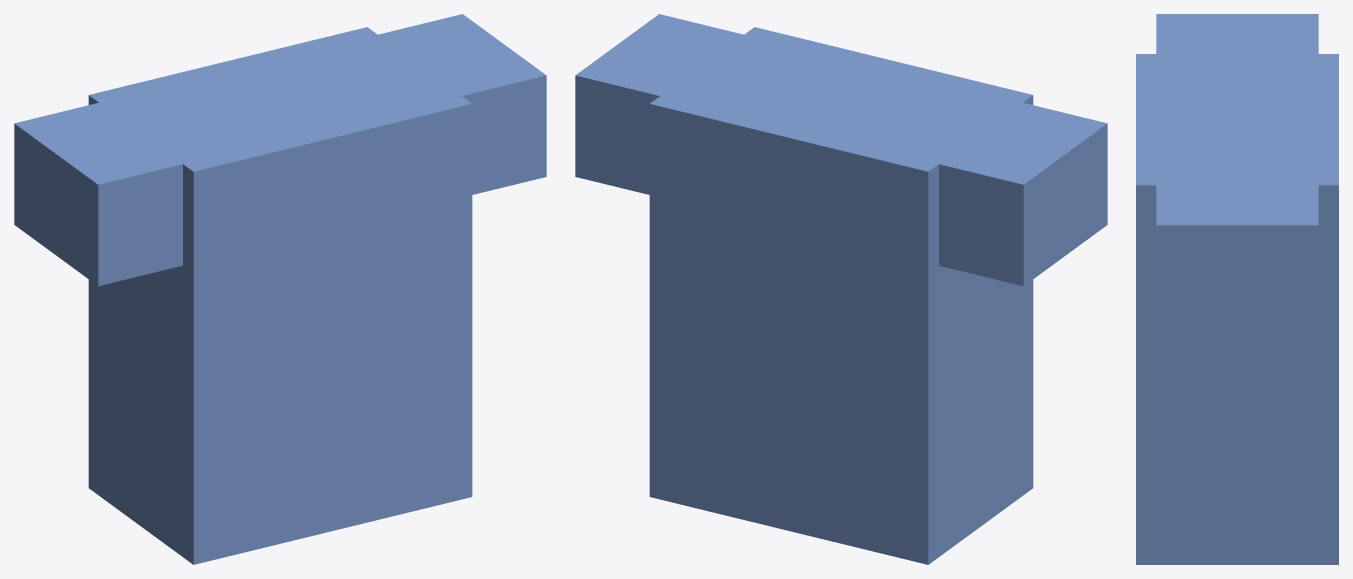
File: mage_chest.glb
3 views of the same model, side by side, from view 1: azimuth 30°, elevation 25°; view 2: azimuth 150°, elevation 25°; view 3: azimuth 270°, elevation 25° (orthographic). The views are drawn at different scales.
Parts seen in each view (by area): view 1: mage_chest; view 2: mage_chest; view 3: mage_chest.
Boxes of the visible parts, <box> form: mage_chest: <box>14,14,546,564</box>; mage_chest: <box>575,14,1107,564</box>; mage_chest: <box>1136,14,1338,564</box>.
Bounding box in the file's own units: 0.74 × 0.62 × 0.3.
